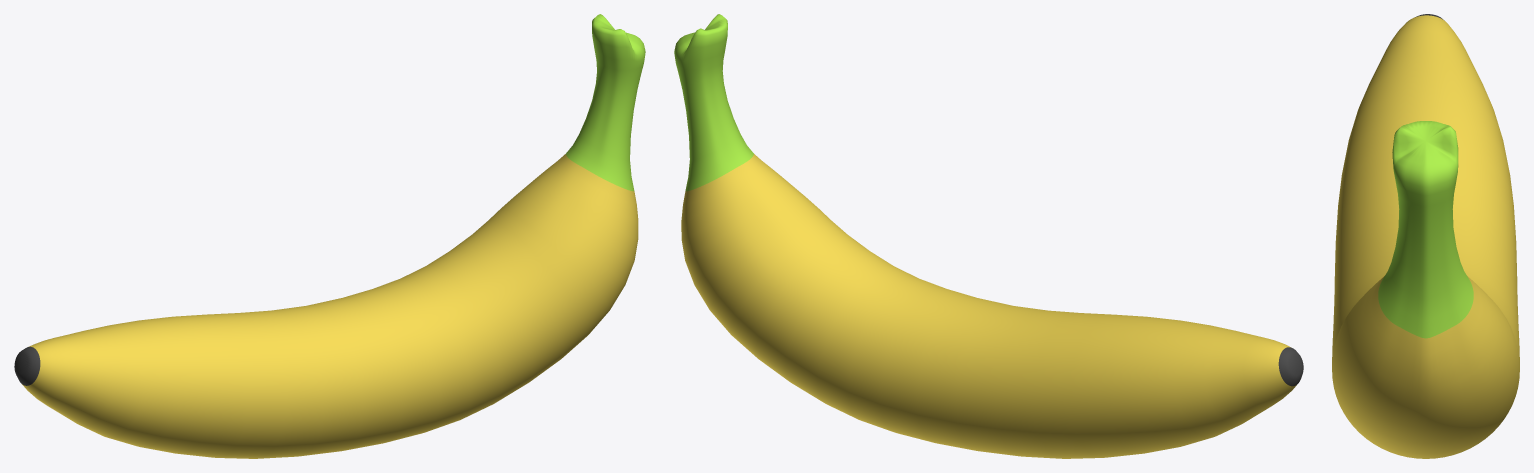
The model's file is pisang.fbx.
The picture shows the model from 3 angles, left to right: view 1: azimuth 30°, elevation 25°; view 2: azimuth 150°, elevation 25°; view 3: azimuth 270°, elevation 25°; orthographic projection. The views are drawn at different scales.
Parts seen in each view (by area): view 1: pisang; view 2: pisang; view 3: pisang.
Part boxes in pixels (left/top/right/bottom): pisang: left=14, top=14, right=645, bottom=458; pisang: left=674, top=14, right=1303, bottom=458; pisang: left=1332, top=14, right=1519, bottom=458.
Bounding box in the file's own units: 46.13 × 25.13 × 10.19.
